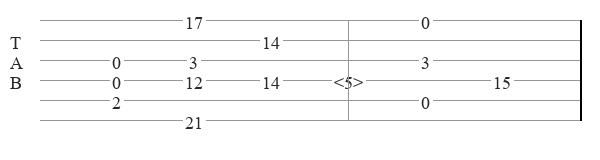0: (112, 52, 125, 68), (112, 72, 125, 88), (421, 12, 434, 28), (421, 92, 434, 108)
12: (185, 72, 207, 88)
14: (262, 32, 284, 48), (262, 72, 284, 88)
15: (493, 72, 515, 88)
17: (185, 12, 207, 28)
2: (112, 92, 125, 108)
21: (185, 112, 207, 128)
3: (189, 52, 202, 68), (421, 52, 434, 68)
harmonic: (334, 72, 367, 88)
